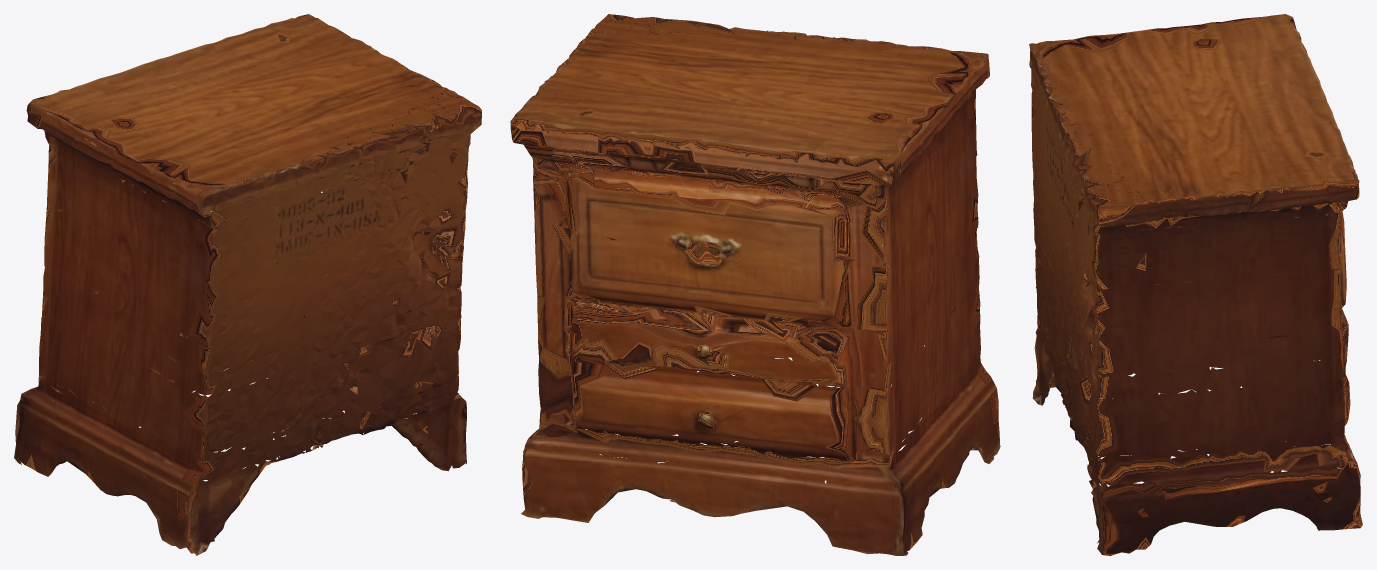
File: bedside_table.glb
3 views of the same model, side by side, from view 1: azimuth 30°, elevation 25°; view 2: azimuth 150°, elevation 25°; view 3: azimuth 270°, elevation 25° (orthographic). The views are drawn at different scales.
Visible parts, largest first — view 1: Object_3, Object_8, Object_5, Object_9, Object_7, Object_4, Object_6, Object_10; view 2: Object_3, Object_9, Object_8, Object_5, Object_6, Object_7, Object_4, Object_10; view 3: Object_3, Object_8, Object_5, Object_9, Object_6, Object_7, Object_4, Object_10.
Boxes of the visible parts, box(x1,y1,x2,y2) form: Object_3: box(18, 14, 471, 464); Object_8: box(44, 143, 466, 348); Object_5: box(39, 262, 461, 457); Object_9: box(47, 113, 470, 285); Object_7: box(20, 184, 462, 485); Object_4: box(27, 87, 481, 395); Object_6: box(14, 317, 466, 555); Object_10: box(44, 107, 480, 228); Object_3: box(510, 17, 988, 554); Object_9: box(532, 87, 977, 265); Object_8: box(534, 142, 978, 333); Object_5: box(538, 253, 980, 455); Object_6: box(521, 308, 1000, 555); Object_7: box(525, 227, 990, 490); Object_4: box(510, 14, 989, 388); Object_10: box(524, 32, 975, 198); Object_3: box(1029, 14, 1359, 206); Object_8: box(1032, 135, 1346, 350); Object_5: box(1035, 248, 1350, 457); Object_9: box(1031, 83, 1344, 290); Object_6: box(1032, 308, 1362, 555); Object_7: box(1033, 191, 1357, 486); Object_4: box(1029, 40, 1359, 399); Object_10: box(1029, 63, 1348, 234).
Size of the model in its own units: 4.18 by 4.09 by 3.29.
2 materials, 1 textured.
